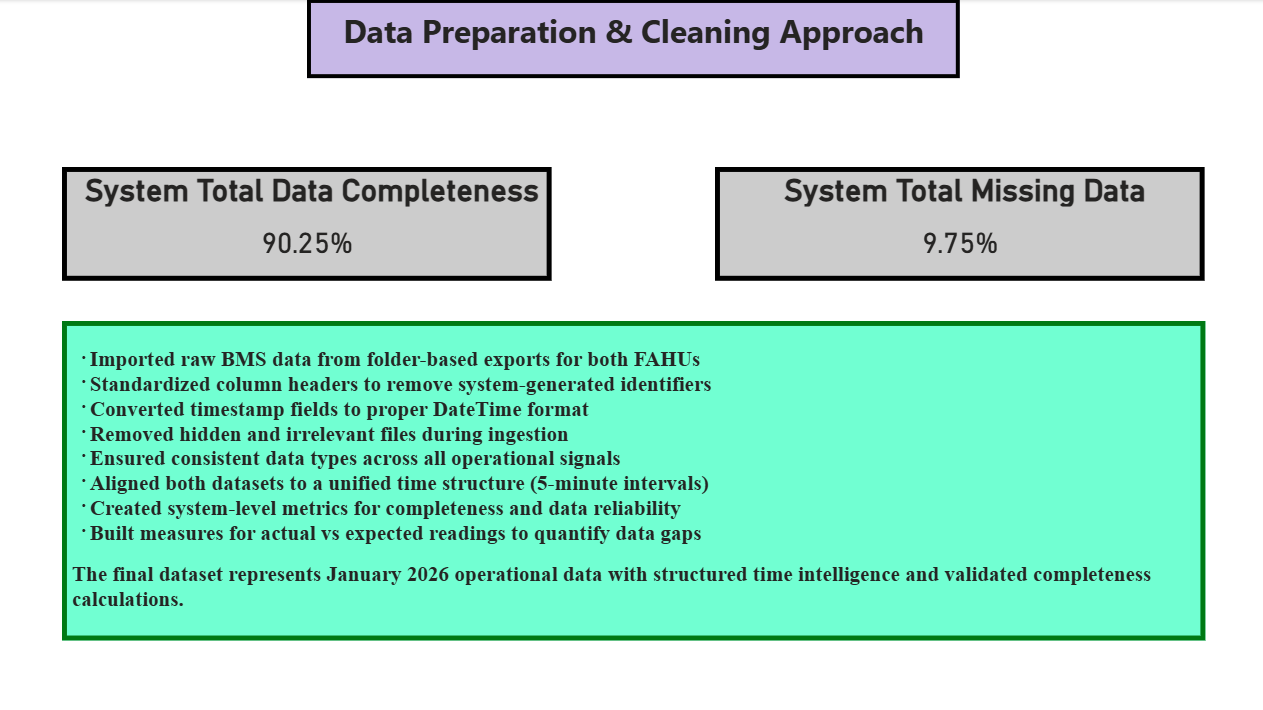

What the dashboard file says about the page in this screenshot:
{"tool":"powerbi","page":{"name":"Data Quality & Cleaning Approach","canvas":[1280,720],"ordinal":5},"visuals":[{"type":"card","title":"System Total Data Completeness","fields":{"Values":["Sum(_Measures.System Data Completeness %)"]},"box":[64.7,169.9,495.4,115.3],"z":0},{"type":"card","title":"System Total Missing Data","fields":{"Values":["_Measures.System Missing Data %"]},"box":[724.9,169.9,495.4,115.3],"z":1000},{"type":"textbox","box":[64.7,325.6,1155.6,322.5],"z":2000},{"type":"textbox","box":[312.4,0,660.2,79.9],"z":3000}]}

Visuals, with their boxes in screenshot pixels (x1, y1, x2, y2), scaled from the page's 1280x720 canvas onto the 1263x710 screenshot:
"System Total Data Completeness" card: (64,168,553,281)
"System Total Missing Data" card: (715,168,1204,281)
textbox: (64,321,1204,639)
textbox: (308,0,960,79)
